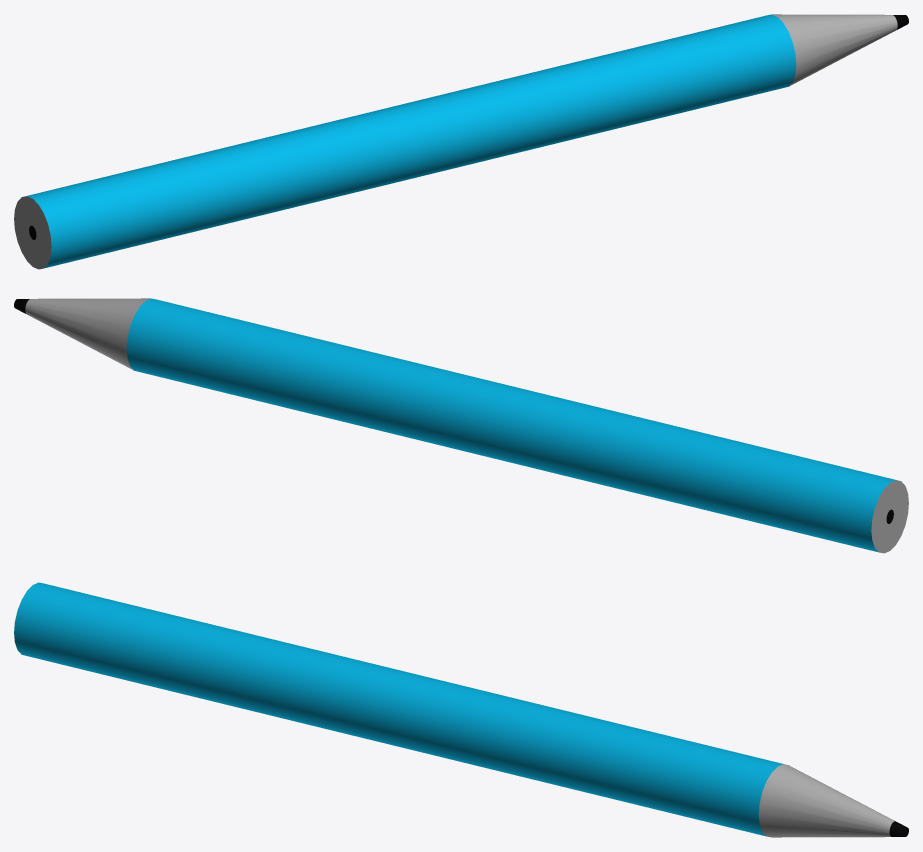
File: pencil.fbx
The picture shows the model from 3 angles, top to bottom: view 1: azimuth 30°, elevation 25°; view 2: azimuth 150°, elevation 25°; view 3: azimuth 330°, elevation 25°; orthographic projection.
Visible parts, largest first — view 1: pCylinder1; view 2: pCylinder1; view 3: pCylinder1.
Boxes of the visible parts, <box> form: pCylinder1: <box>14,14,908,269</box>; pCylinder1: <box>14,298,908,553</box>; pCylinder1: <box>14,582,908,837</box>.
Bounding box in the file's own units: 20.65 × 1.54 × 1.54.
